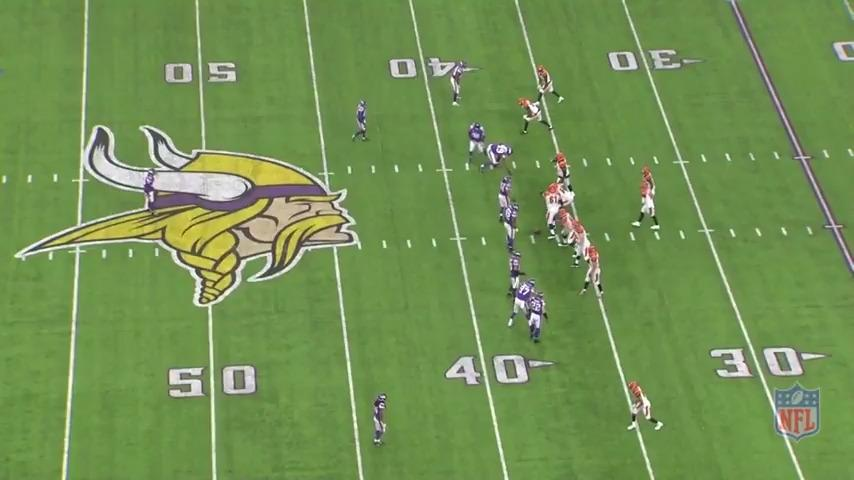defense: (508, 278, 539, 330), (527, 293, 551, 349), (370, 392, 392, 451), (503, 201, 525, 257), (140, 167, 161, 219), (478, 143, 514, 173), (351, 97, 373, 144), (466, 120, 490, 162), (450, 61, 470, 108), (498, 174, 517, 221), (508, 249, 526, 297)
oline: (544, 181, 567, 242), (564, 214, 589, 269), (558, 208, 585, 248), (552, 151, 576, 193), (551, 182, 577, 207)
qb: (634, 174, 662, 232)
skill: (623, 377, 665, 435), (580, 245, 609, 303), (535, 65, 568, 108), (519, 97, 554, 136), (639, 164, 658, 198)
